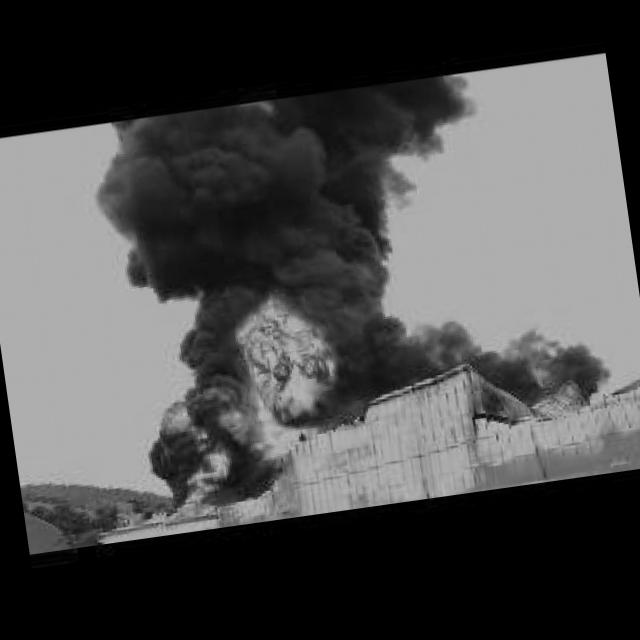fire: (231, 290, 343, 462), (156, 384, 238, 508)
smoke: (88, 70, 489, 370)
